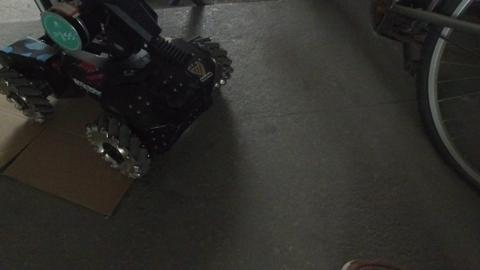chariot: (1, 1, 235, 183)
